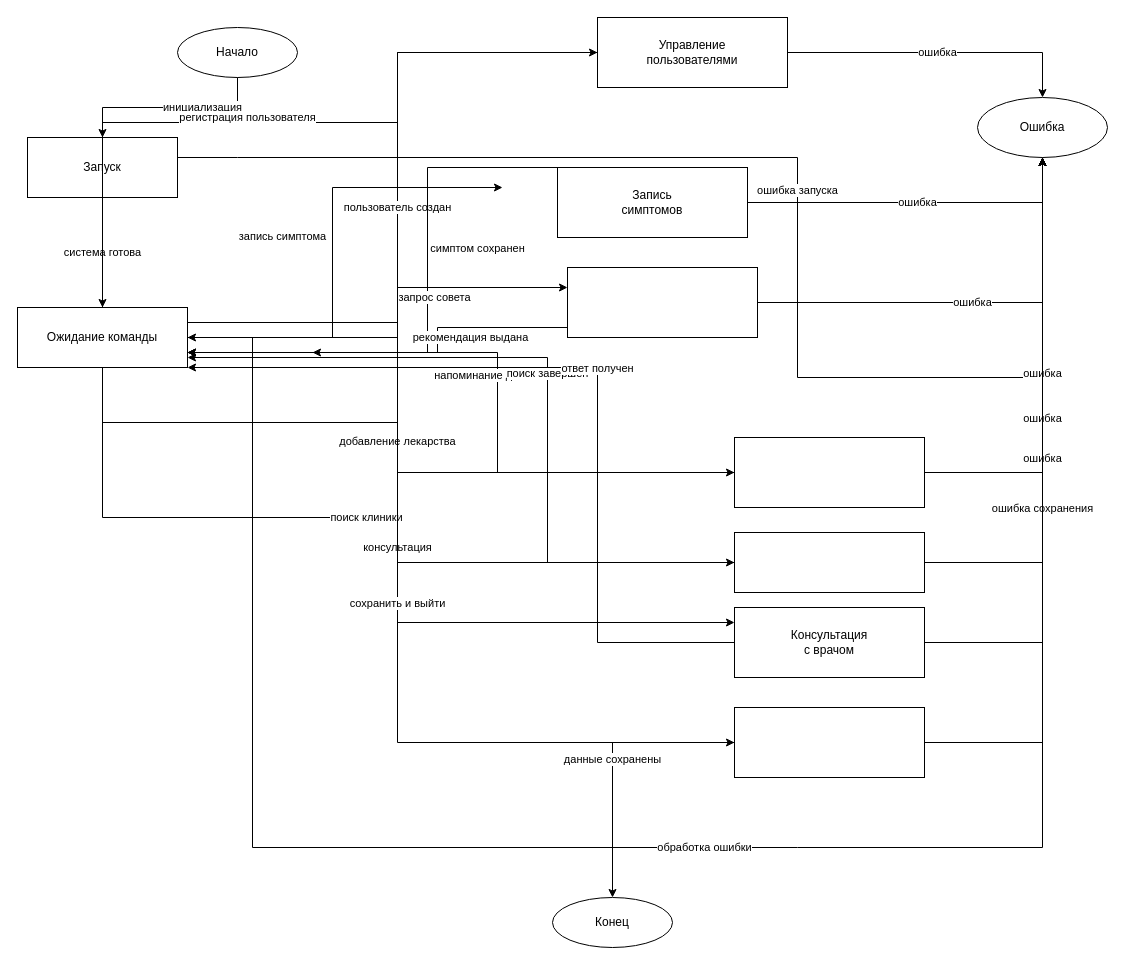
Some shapes in this 1125 by 973 pixel diagram are drawn without their labels. The box of each missing label's shape, as (x1, y1, x2, y2) in pixels:
Поиск клиник: (734, 532, 924, 592)
Предоставление рекомендаций: (566, 266, 758, 338)
Сохранение состояния: (734, 706, 924, 778)
Управление лекарствами: (734, 436, 924, 508)
